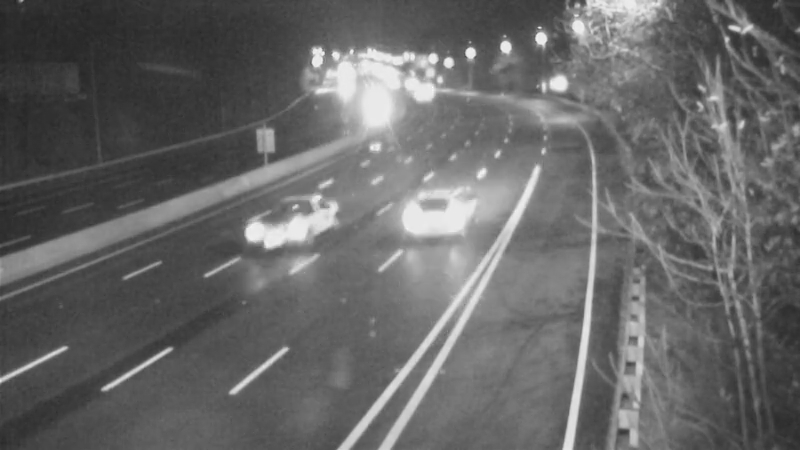vehicle: (393, 179, 473, 259), (255, 186, 335, 266), (397, 69, 447, 119), (347, 77, 397, 127)
